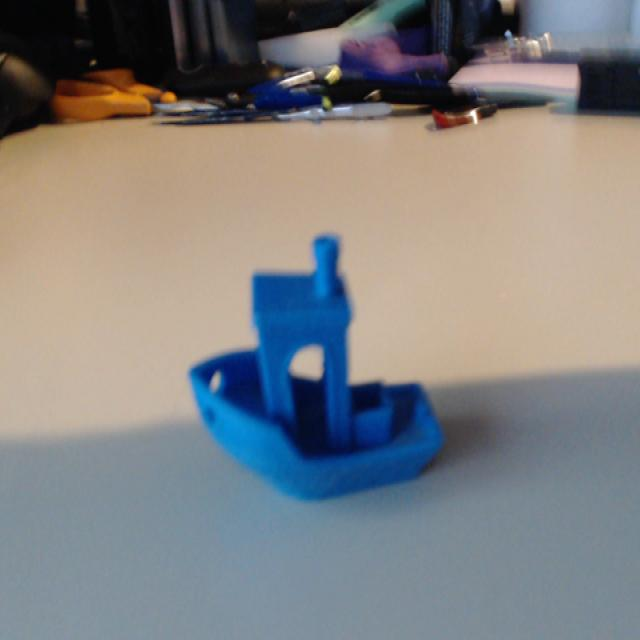benchy: (185, 229, 447, 503)
